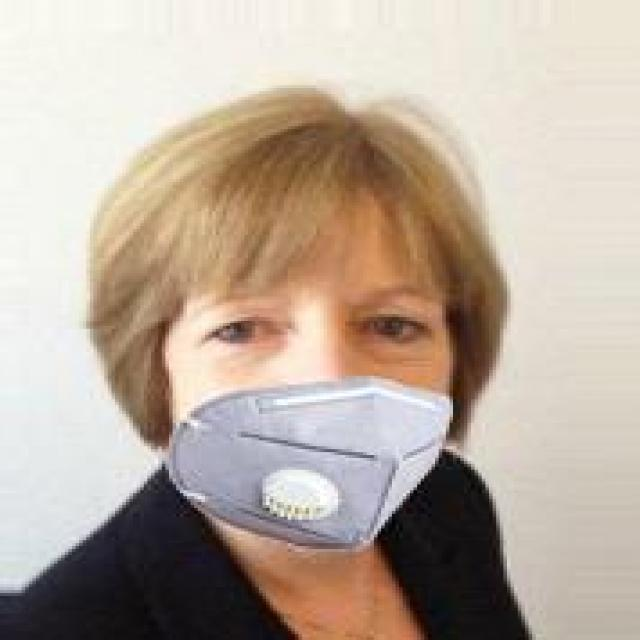mask: (87, 47, 540, 561)
